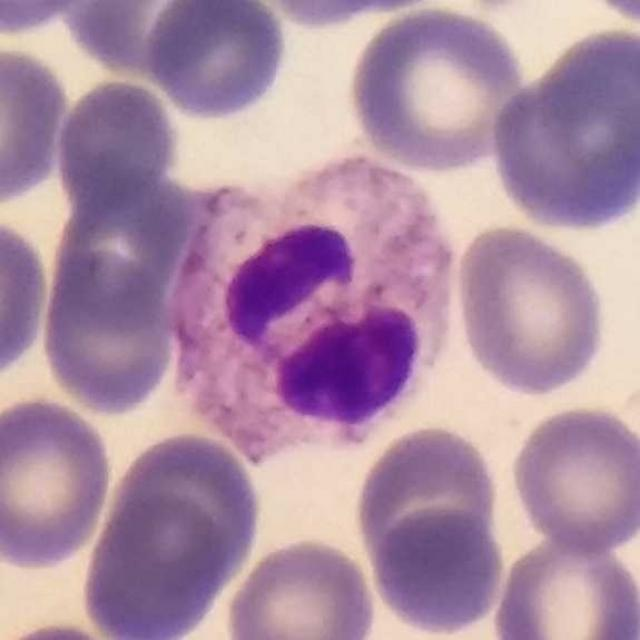Neutrophil: (152, 140, 476, 478)
RBC: (95, 425, 268, 612), (342, 3, 528, 176), (451, 222, 613, 400), (349, 420, 506, 591), (36, 246, 179, 420), (76, 488, 237, 640), (47, 169, 201, 325), (486, 73, 636, 224), (0, 392, 117, 573), (506, 400, 640, 558), (365, 504, 509, 639), (142, 0, 294, 124), (50, 75, 183, 209), (220, 533, 381, 640), (487, 531, 640, 640), (59, 0, 241, 81), (0, 40, 73, 208), (0, 212, 53, 385), (240, 0, 457, 32), (0, 0, 104, 38), (0, 616, 134, 640)
